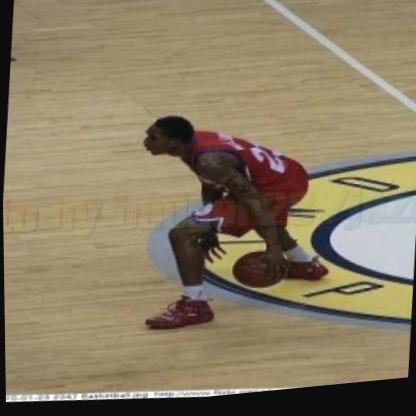basketball: (227, 244, 295, 306)
